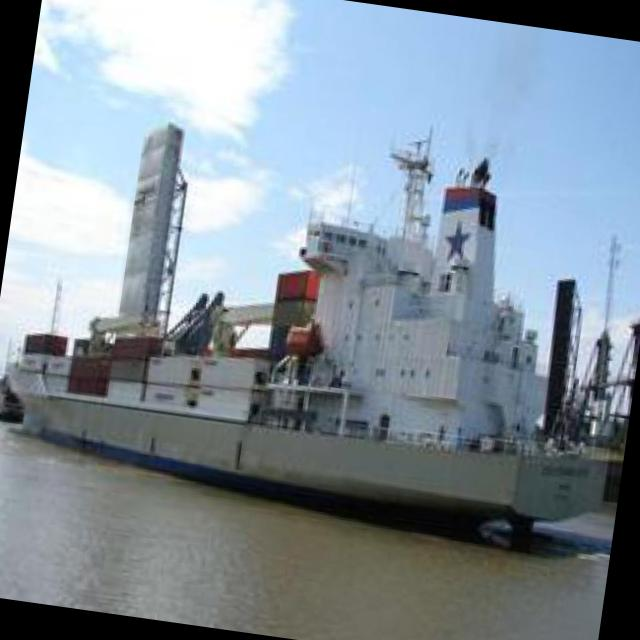boat: (0, 342, 598, 565)
